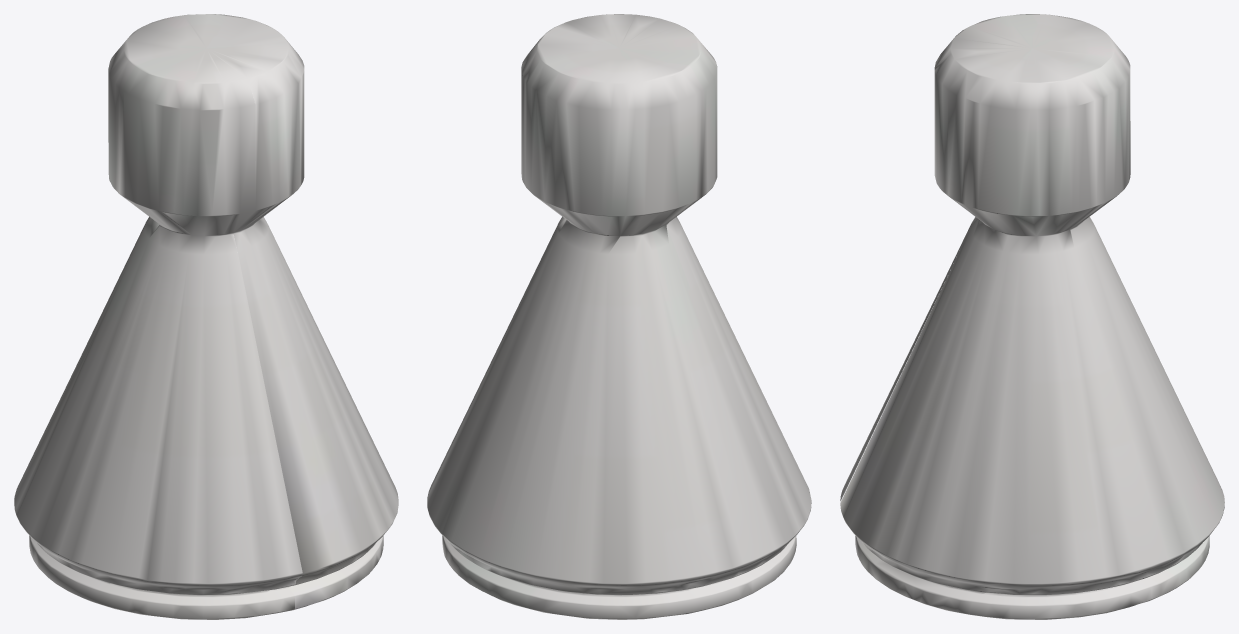
File: 06_pesec_bila.glb
The picture shows the model from 3 angles, left to right: view 1: azimuth 30°, elevation 25°; view 2: azimuth 150°, elevation 25°; view 3: azimuth 270°, elevation 25°; orthographic projection.
Visible parts, largest first — view 1: 06_pesec_bila; view 2: 06_pesec_bila; view 3: 06_pesec_bila.
Part boxes in pixels (box(x1,y1,x2,y2)): 06_pesec_bila: box(14, 14, 398, 619); 06_pesec_bila: box(427, 14, 811, 619); 06_pesec_bila: box(840, 14, 1224, 619).
Bounding box in the file's own units: 0.0364 × 0.052 × 0.0364.
1 material, 1 textured.
